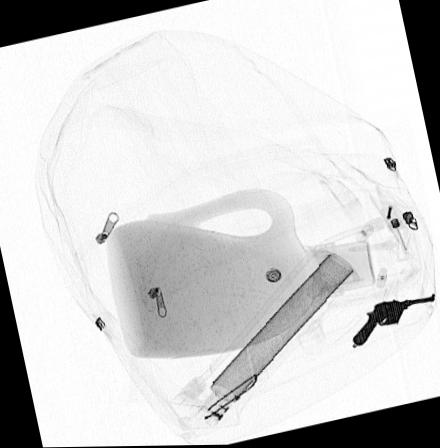Gun: (351, 292, 438, 348)
